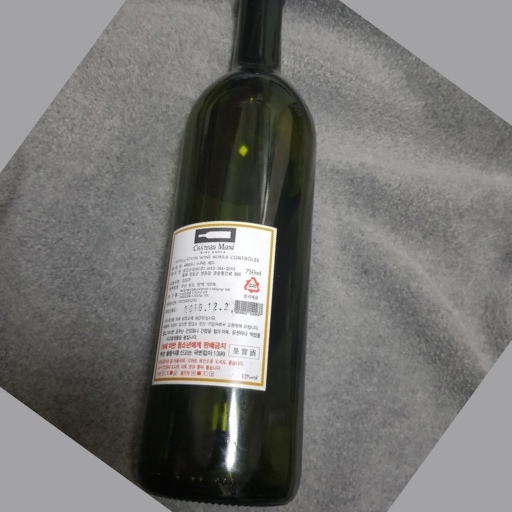Glass_2: (136, 2, 317, 503)
